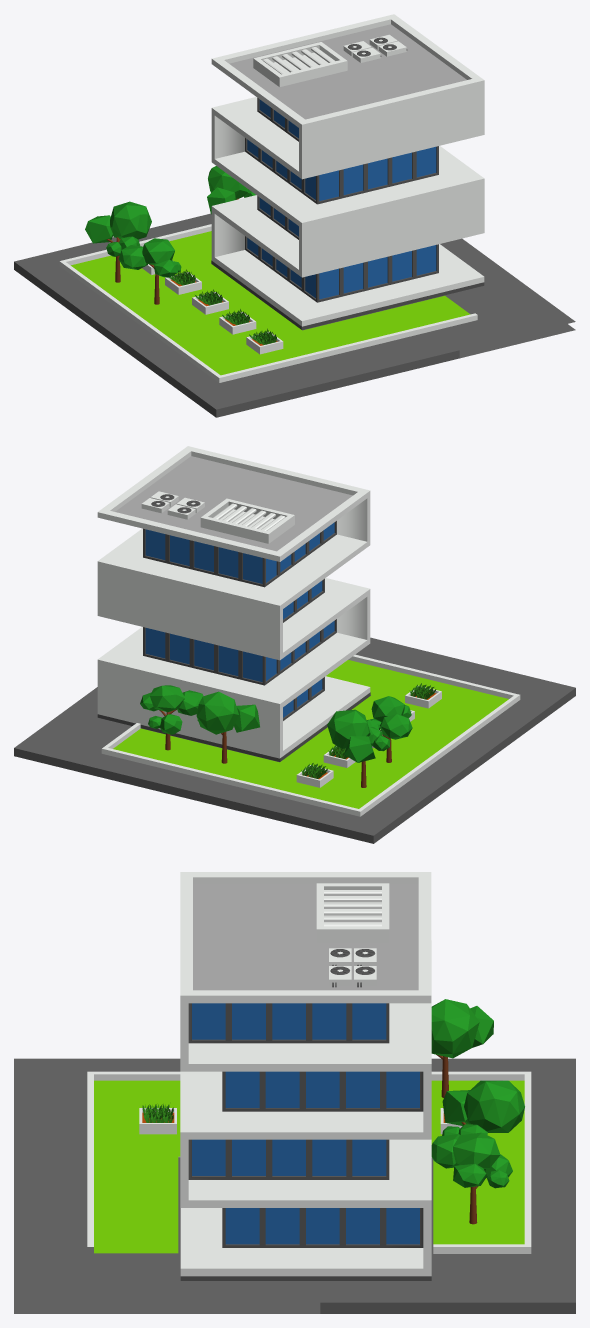
File: Edificio2.fbx
The picture shows the model from 3 angles, top to bottom: view 1: azimuth 30°, elevation 25°; view 2: azimuth 150°, elevation 25°; view 3: azimuth 270°, elevation 25°; orthographic projection. The views are drawn at different scales.
Visible parts, largest first — view 1: CASA_005, CASA_004, BASE_CASA_001, Perimetro_giardino_003, Uscita_aria_004, Cube_005, Icosphere_058, Base_01_003, erba_003, Uscita_aria_02_004, Motore_aerazione_004, Icosphere_049 (+3 smaller); view 2: CASA_005, CASA_004, BASE_CASA_001, Perimetro_giardino_003, Uscita_aria_004, Icosphere_049, Cube_005, Icosphere_058, Base_01_003, Uscita_aria_02_004, Motore_aerazione_004, Icosphere_044 (+5 smaller); view 3: CASA_005, BASE_CASA_001, CASA_004, Perimetro_giardino_003, Uscita_aria_004, Icosphere_049, Icosphere_058, Uscita_aria_02_004, Icosphere_044, Motore_aerazione_004, Base_01_003, Cube_005 (+5 smaller).
Part boxes in pixels (x1=…): CASA_005: x1=211, y1=14, x2=484, y2=277; CASA_004: x1=211, y1=108, x2=484, y2=326; BASE_CASA_001: x1=14, y1=213, x2=575, y2=417; Perimetro_giardino_003: x1=59, y1=224, x2=477, y2=382; Uscita_aria_004: x1=253, y1=42, x2=347, y2=87; Cube_005: x1=142, y1=264, x2=283, y2=354; Icosphere_058: x1=110, y1=201, x2=151, y2=239; Base_01_003: x1=211, y1=260, x2=484, y2=329; erba_003: x1=169, y1=269, x2=276, y2=344; Uscita_aria_02_004: x1=262, y1=47, x2=335, y2=74; Motore_aerazione_004: x1=343, y1=34, x2=406, y2=62; Icosphere_049: x1=208, y1=166, x2=248, y2=199; CASA_005: x1=97, y1=446, x2=370, y2=703; CASA_004: x1=97, y1=540, x2=370, y2=758; BASE_CASA_001: x1=14, y1=637, x2=575, y2=843; Perimetro_giardino_003: x1=101, y1=654, x2=520, y2=816; Uscita_aria_004: x1=200, y1=498, x2=294, y2=543; Icosphere_049: x1=196, y1=691, x2=238, y2=734; Cube_005: x1=296, y1=685, x2=441, y2=787; Icosphere_058: x1=327, y1=709, x2=370, y2=748; Base_01_003: x1=97, y1=692, x2=370, y2=761; Uscita_aria_02_004: x1=213, y1=503, x2=285, y2=530; Motore_aerazione_004: x1=141, y1=491, x2=204, y2=519; Icosphere_044: x1=150, y1=685, x2=184, y2=712; CASA_005: x1=180, y1=872, x2=431, y2=1207; BASE_CASA_001: x1=14, y1=1058, x2=575, y2=1313; CASA_004: x1=180, y1=940, x2=431, y2=1276; Perimetro_giardino_003: x1=87, y1=1071, x2=531, y2=1253; Uscita_aria_004: x1=316, y1=883, x2=389, y2=942; Icosphere_049: x1=464, y1=1080, x2=524, y2=1132; Icosphere_058: x1=431, y1=999, x2=479, y2=1058; Uscita_aria_02_004: x1=324, y1=890, x2=381, y2=926; Icosphere_044: x1=453, y1=1132, x2=500, y2=1168; Motore_aerazione_004: x1=329, y1=948, x2=376, y2=985; Base_01_003: x1=180, y1=1276, x2=431, y2=1280; Cube_005: x1=139, y1=1108, x2=462, y2=1134.
Size of the model in its own units: 1379 by 801 by 1344.
1 material, 1 textured.
